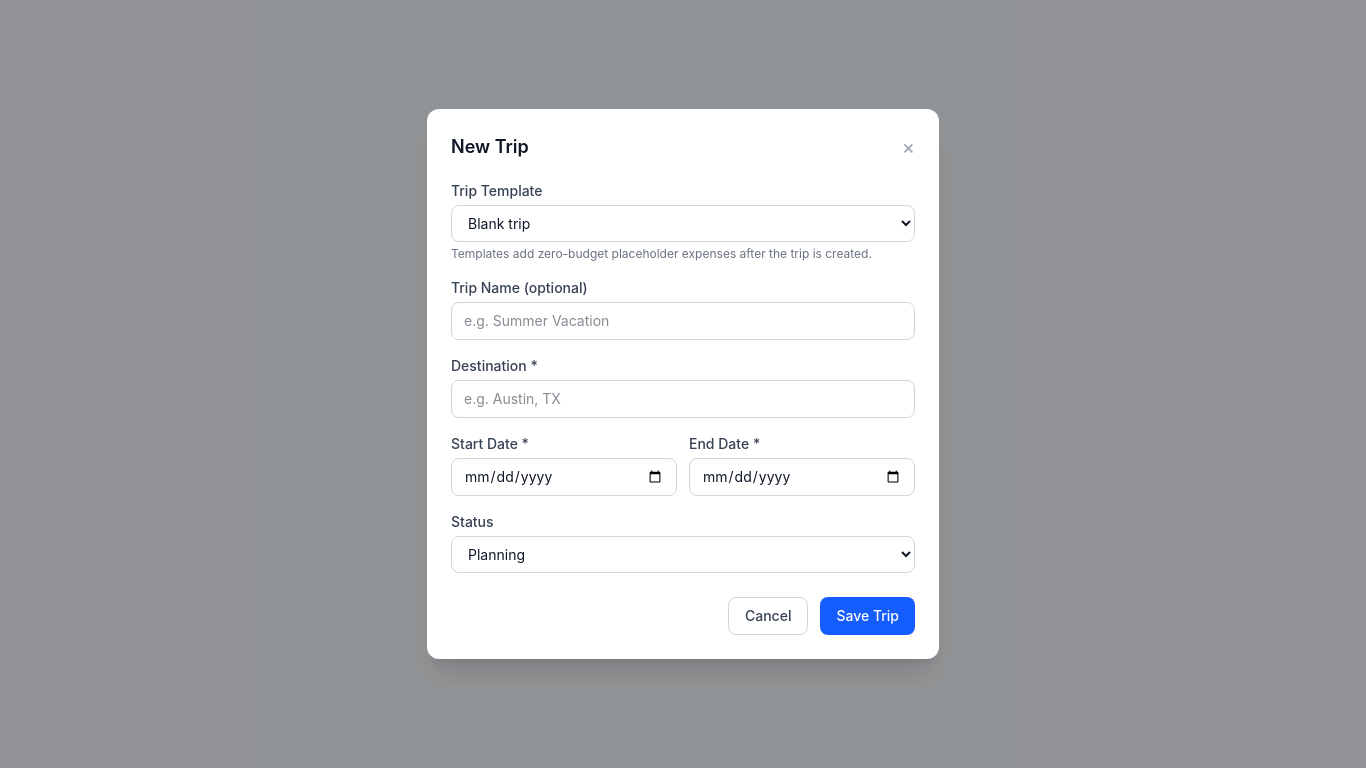
Test: TripForm › shows a save error and keeps the form open
Step 1. Type "Chicago, IL" into the field with placeholder "e.g. Austin, TX" → (683, 399), box [451,380,915,418]
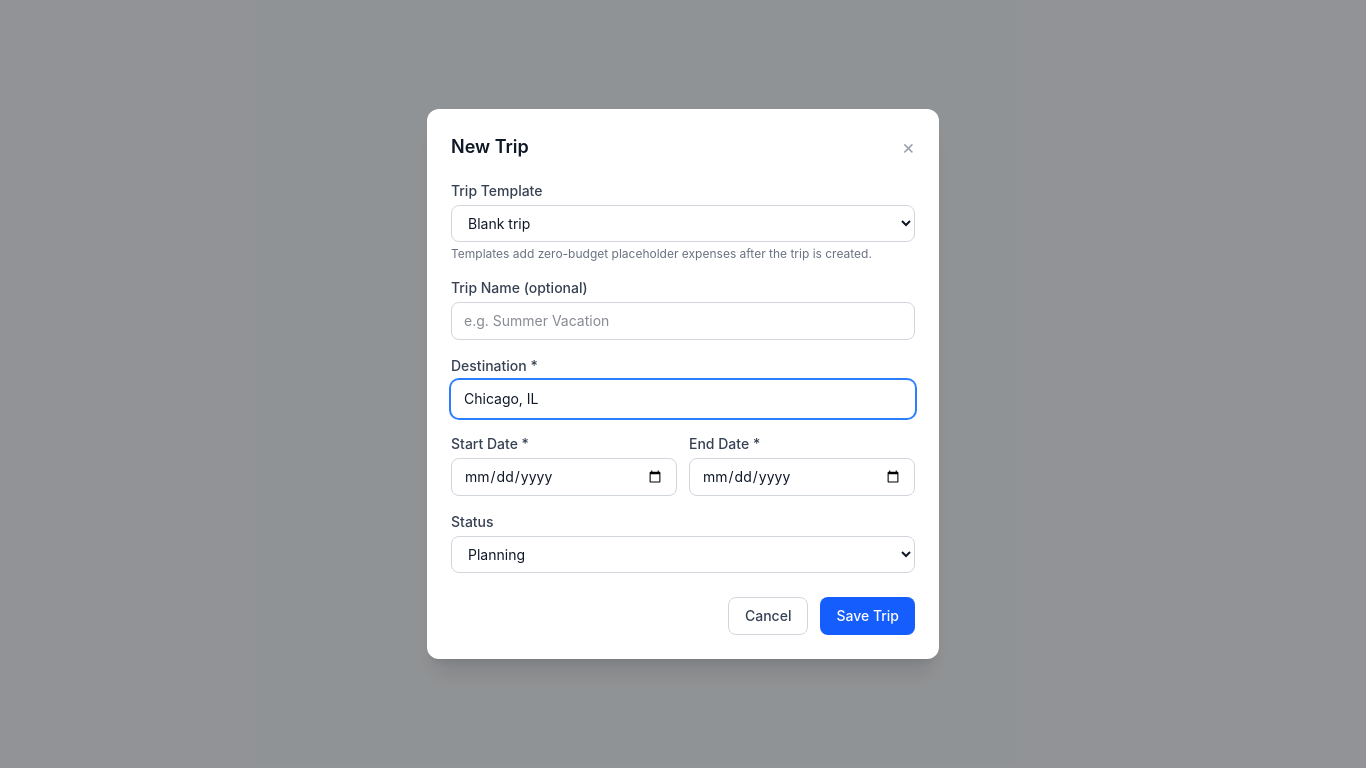
Step 2. Type "2026-07-01" into the date field labelled "Start Date *" → (564, 477), box [451,458,677,496]
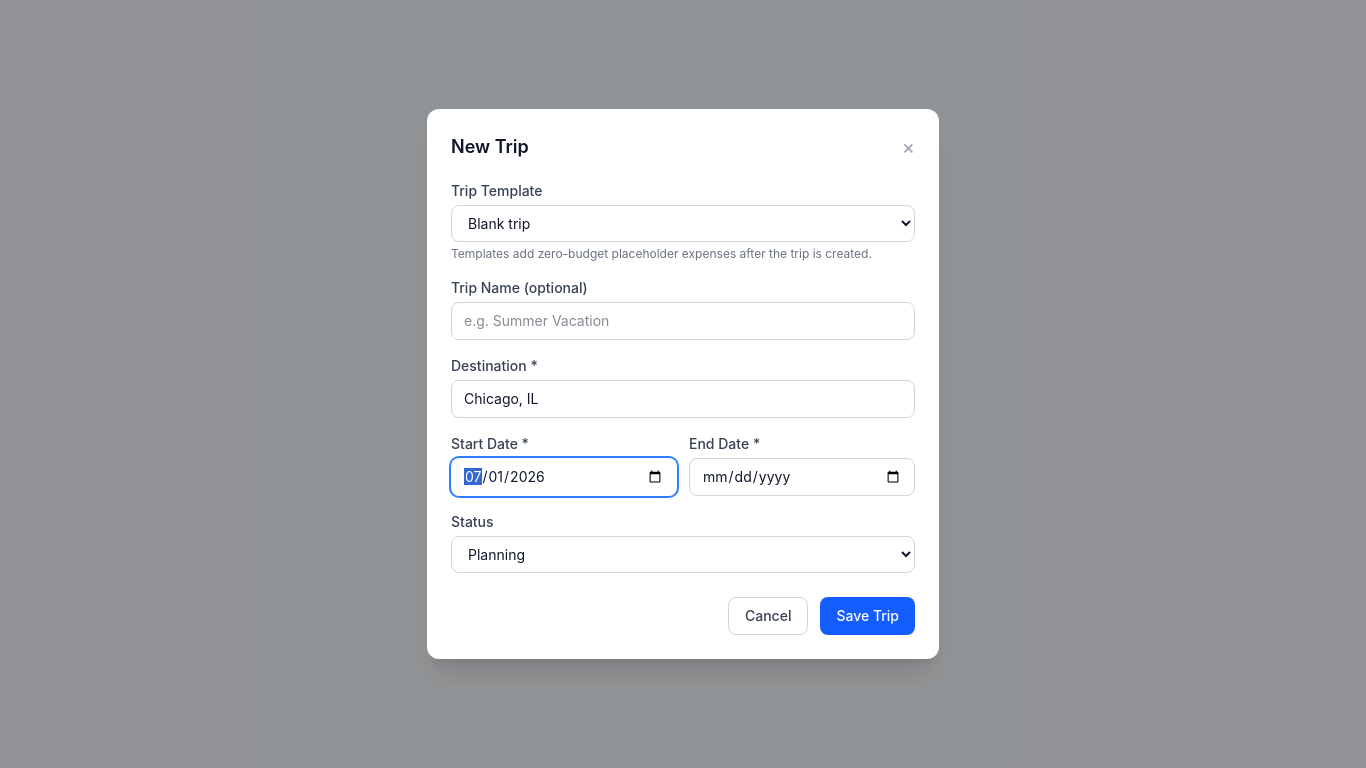
Step 3. Type "2026-07-05" into the date field labelled "End Date *" → (802, 477), box [689,458,915,496]
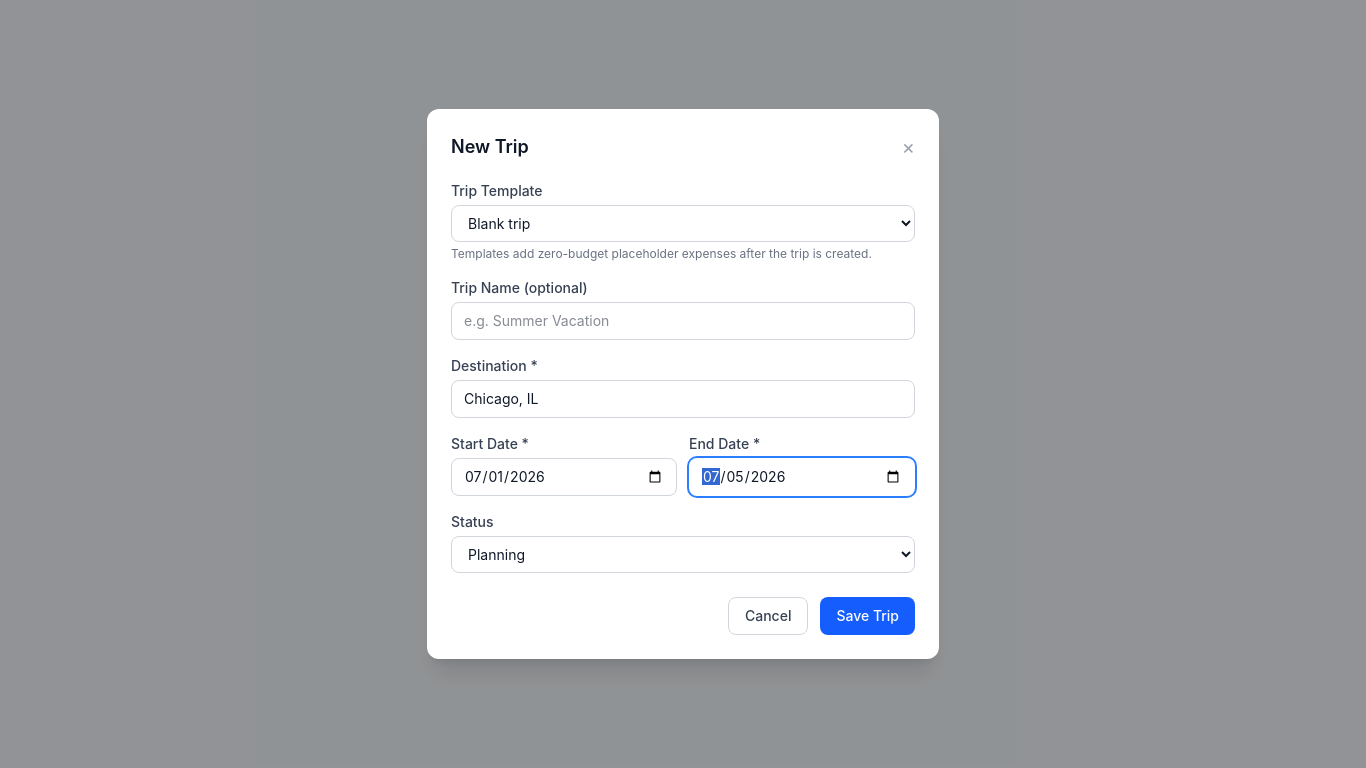
Step 4. Click the button "Save Trip" → (868, 616), box [820,597,915,635]
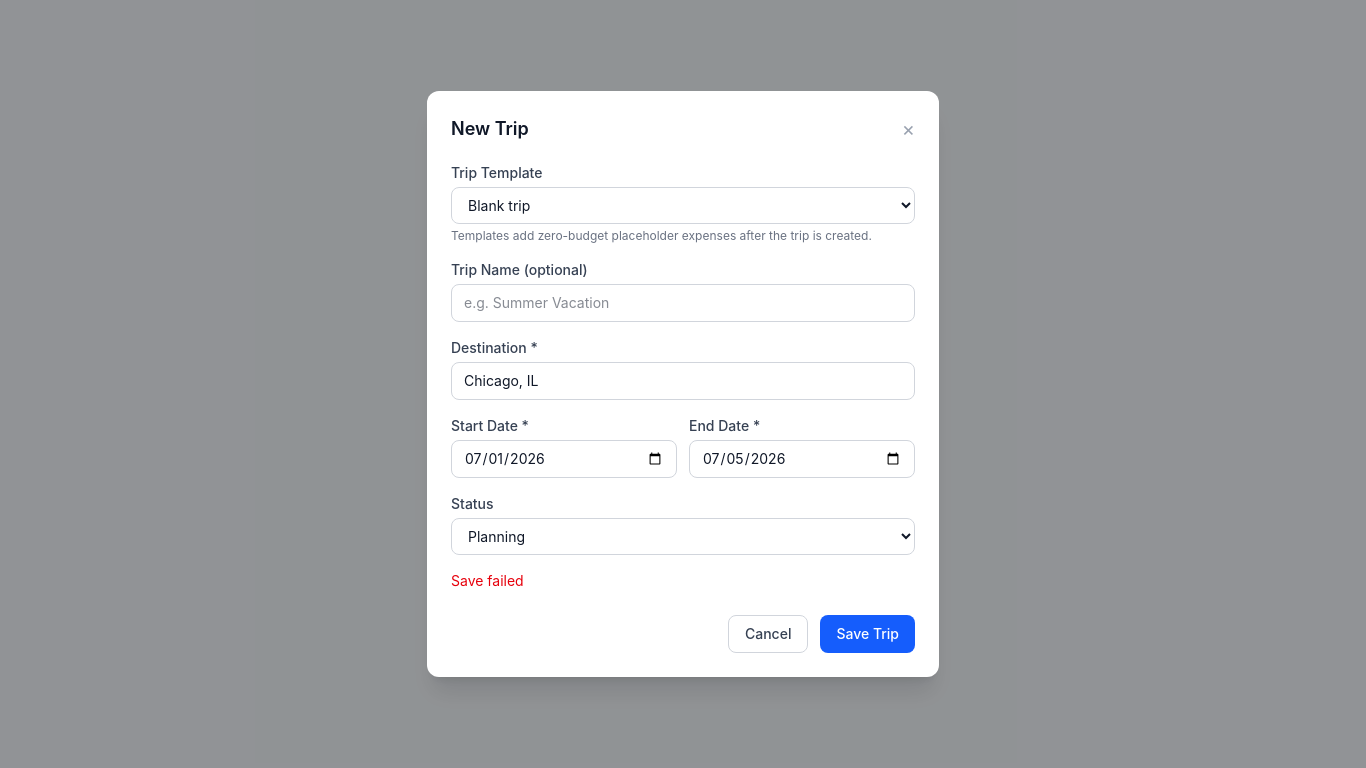
Expected: the button "Save Trip" is enabled, [820,615,915,653]
Expected: the message reads "Save failed", [451,572,524,589]
